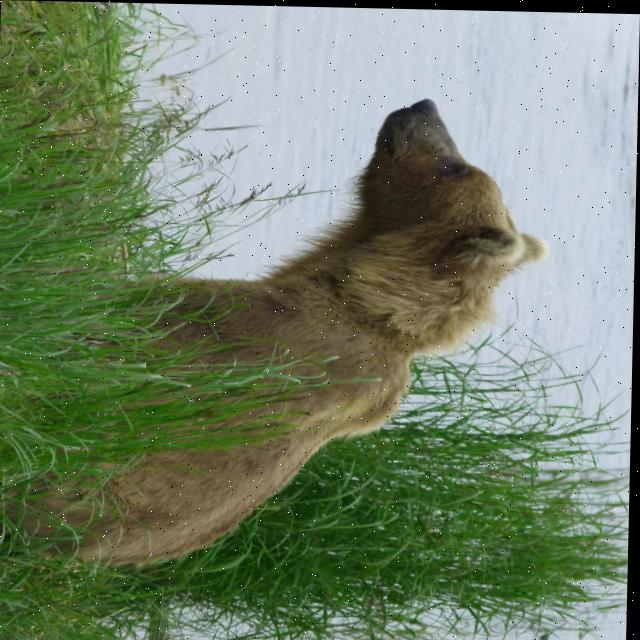bear face: (51, 90, 551, 571)
